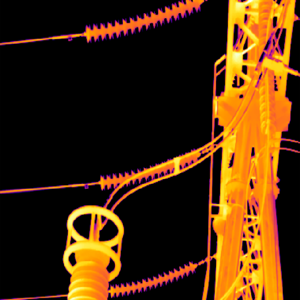insulator: (83, 0, 202, 44), (97, 150, 198, 189), (109, 259, 197, 295)
